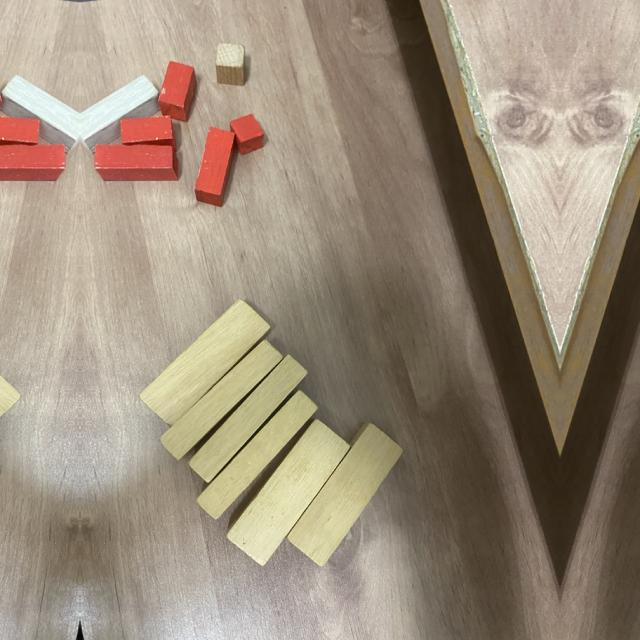block: (80, 75, 160, 154), (0, 75, 80, 154)
cube: (216, 43, 244, 86)
jenga: (226, 420, 350, 566), (286, 422, 403, 567), (138, 300, 270, 426), (196, 390, 318, 520), (189, 355, 308, 483), (160, 340, 283, 461)
red block: (194, 126, 236, 207), (94, 144, 178, 181), (0, 144, 66, 181), (158, 61, 197, 122), (120, 115, 176, 152), (0, 116, 40, 146)
red cube: (229, 114, 264, 155)
